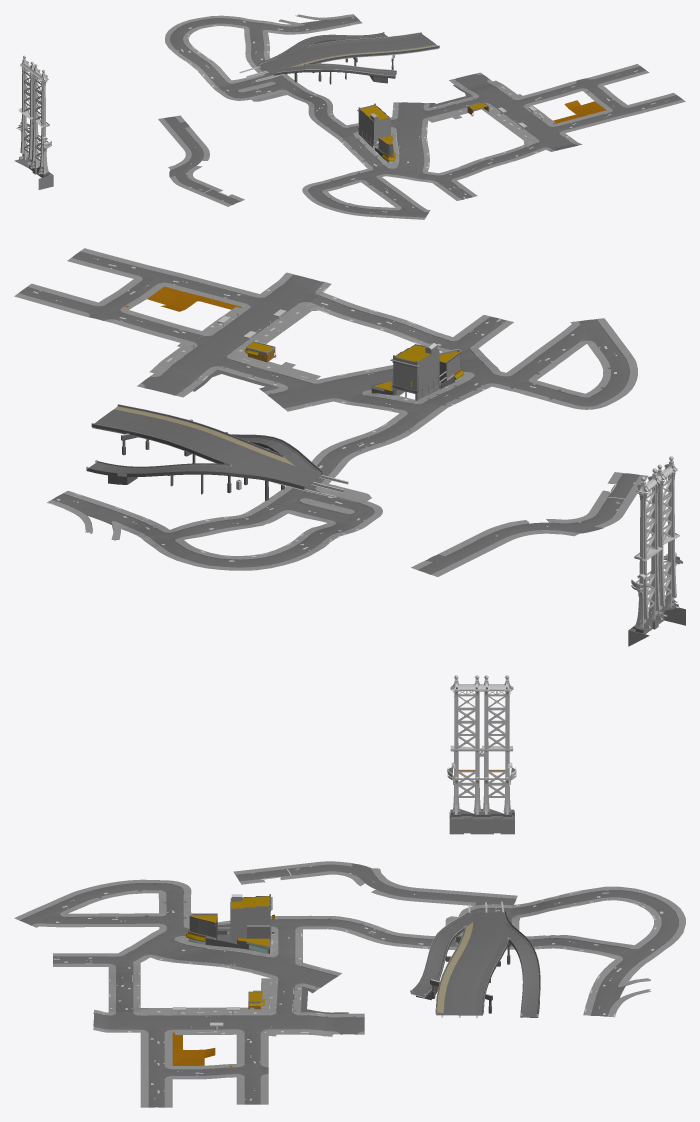
File: brook_n_1.FBX
The picture shows the model from 3 angles, top to bottom: view 1: azimuth 30°, elevation 25°; view 2: azimuth 150°, elevation 25°; view 3: azimuth 270°, elevation 25°; orthographic projection. The views are drawn at different scales.
Visible parts, largest first — view 1: unnamed, null; view 2: unnamed, null; view 3: unnamed, null.
Boxes of the visible parts, x1,y1,x2,y2 form: unnamed: [14, 14, 484, 219]; null: [374, 64, 685, 200]; unnamed: [47, 318, 685, 646]; null: [14, 248, 513, 411]; unnamed: [14, 675, 685, 1034]; null: [53, 904, 351, 1107].
Size of the model in its own units: 607 by 127 by 504.
